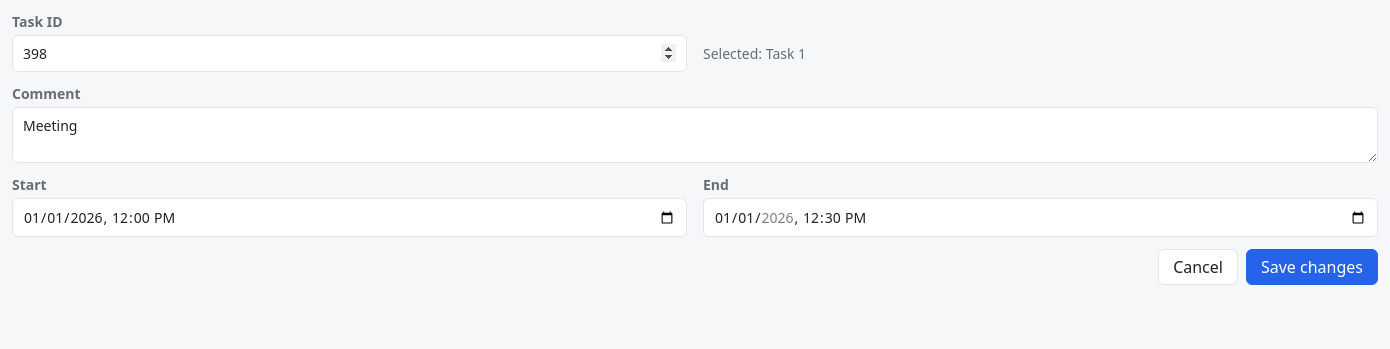
Scenario: TimeEntryForm › fills the form when editing and saves with PUT
Expected: the text box labelled "Comment" holds "Meeting", [12,107,1378,163]
Click the button "Save changes" at (1312, 267), box [1246,249,1378,285]
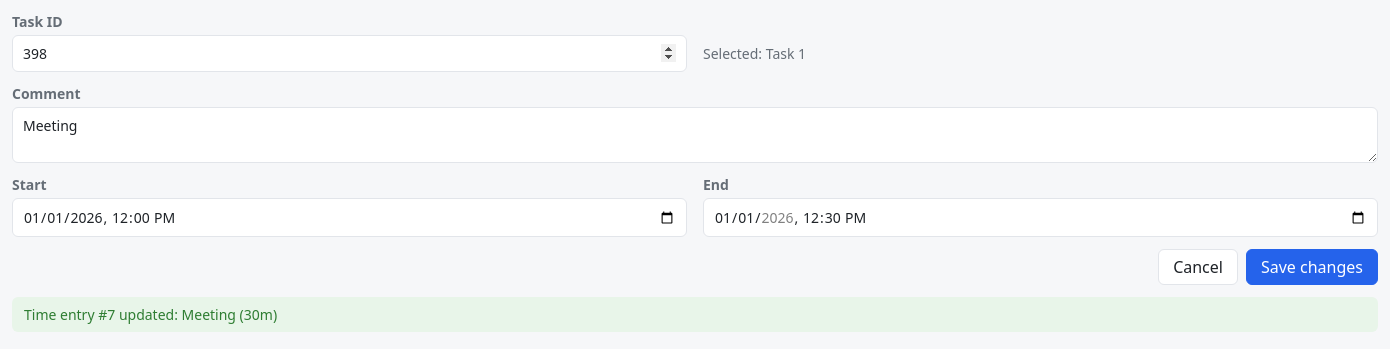
Now the message shows "Time entry #7 updated", box [24,305,277,324]
